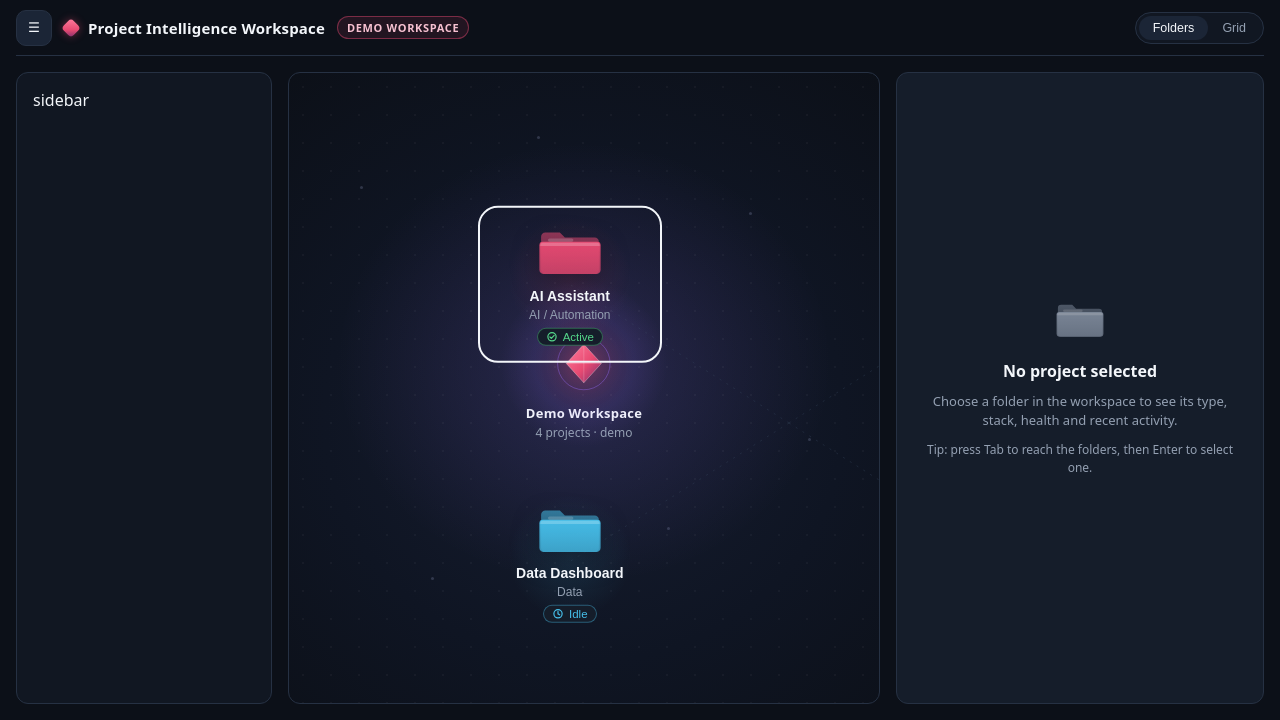
Scenario: MainView (demo workspace) › keyboard: Enter selects the focused folder; clicking the empty stage clears
Step 1. Press Enter in the button with aria-label "AI Assistant,", box [482,210,658,359]
Step 2. Click the button with aria-label "AI Assistant," → (570, 284), box [482,210,658,359]
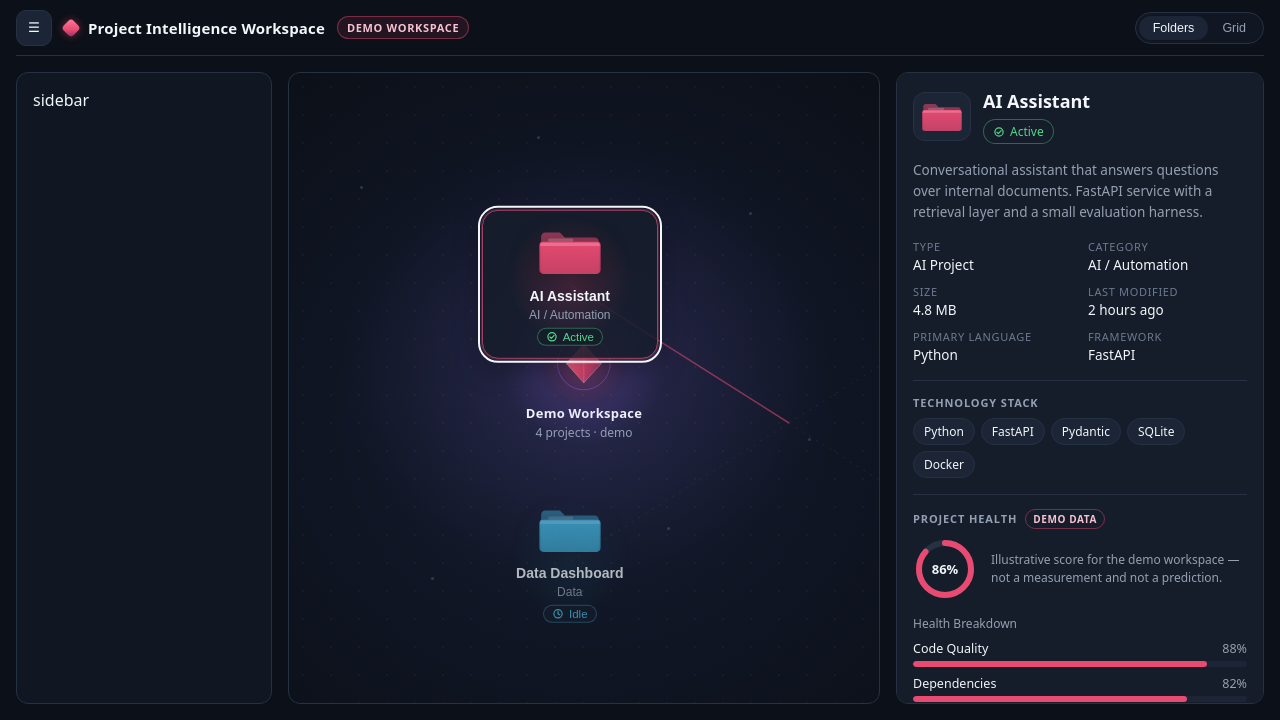
Check: the element with test id "inspector-ready" is shown, box [913,89,1247,704]
Step 3. Click the element named "Demo Workspace: 4 projects" → (584, 388), box [289,73,879,703]
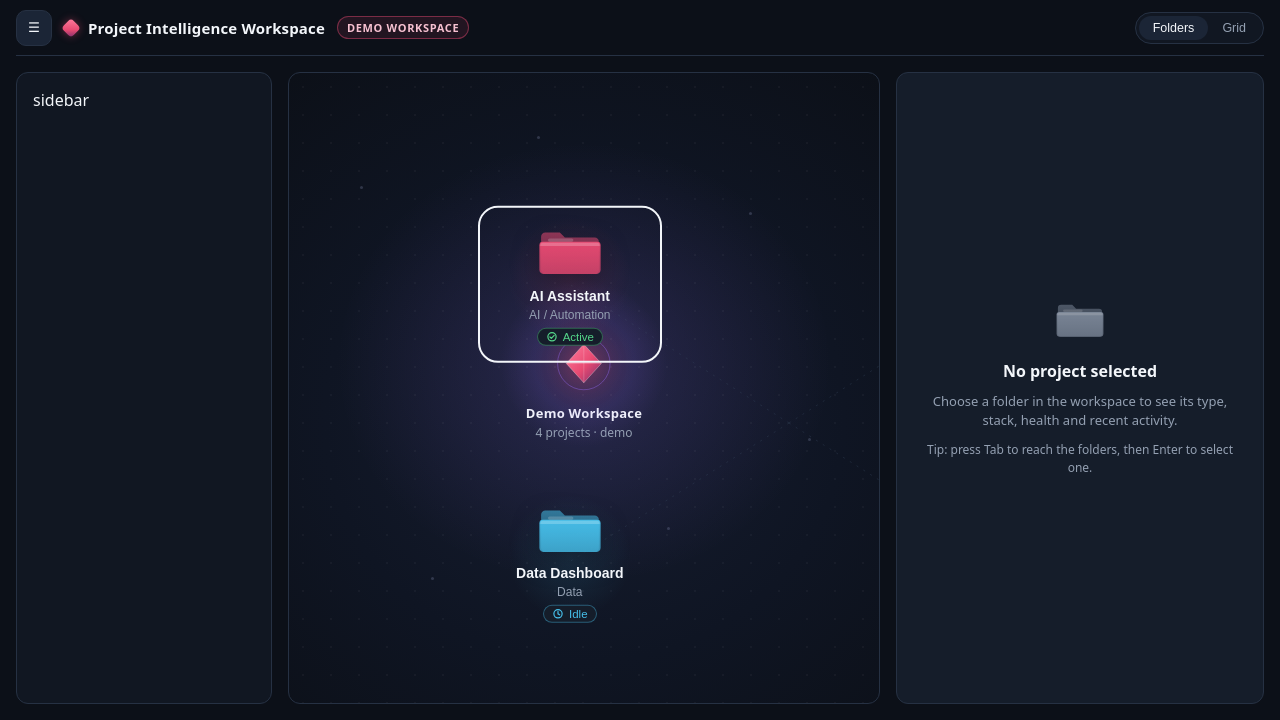
Check: the element with test id "inspector-empty" is shown, box [927,299,1233,476]
